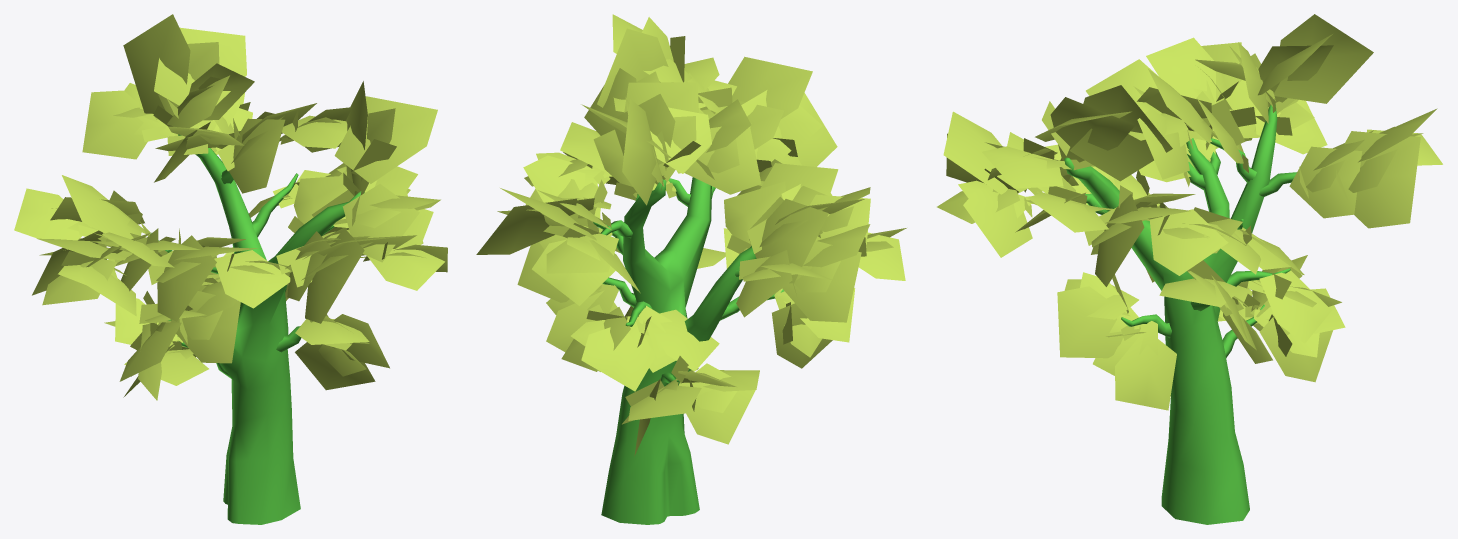
File: tree_ancient_large.fbx
The picture shows the model from 3 angles, left to right: view 1: azimuth 30°, elevation 25°; view 2: azimuth 150°, elevation 25°; view 3: azimuth 270°, elevation 25°; orthographic projection. The views are drawn at different scales.
Parts seen in each view (by area): view 1: L6 base tree_leaves, L6 base tree_wood; view 2: L6 base tree_leaves, L6 base tree_wood; view 3: L6 base tree_leaves, L6 base tree_wood.
Part boxes in pixels (box(x1,y1,x2,y2)): L6 base tree_leaves: box(14, 14, 447, 400); L6 base tree_wood: box(150, 134, 364, 524); L6 base tree_leaves: box(476, 14, 906, 456); L6 base tree_wood: box(593, 177, 784, 524); L6 base tree_leaves: box(937, 14, 1442, 410); L6 base tree_wood: box(1064, 105, 1296, 524).
Bounding box in the file's own units: 132296 × 154502 × 149563.
